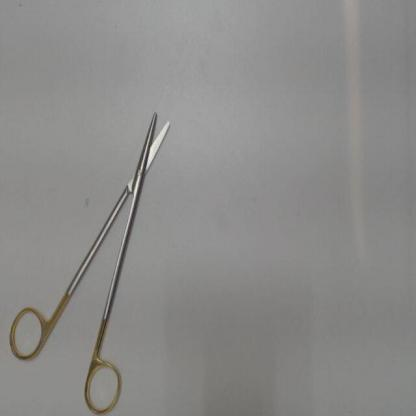7 Metzenbaum Scissors: (8, 112, 172, 415)
